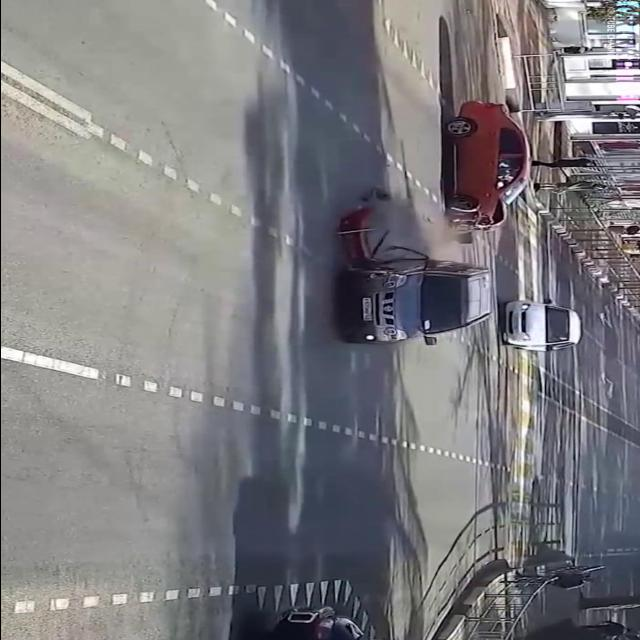non_accident: (322, 94, 538, 358)
